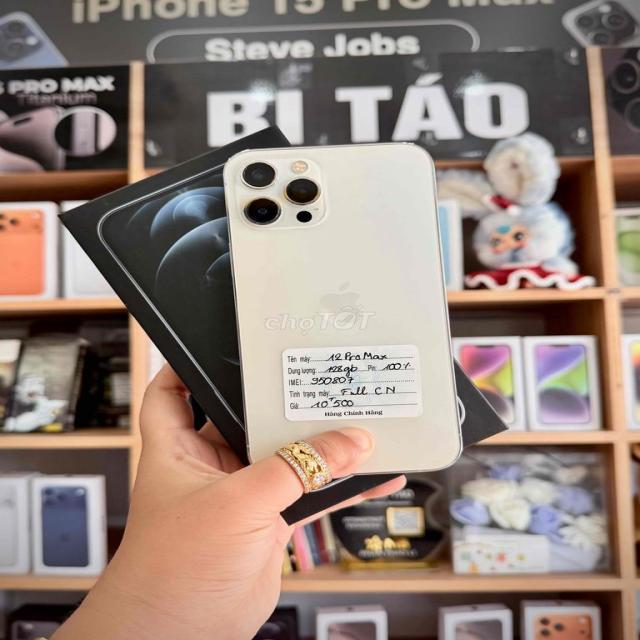gen_12_13: (220, 143, 472, 479)
